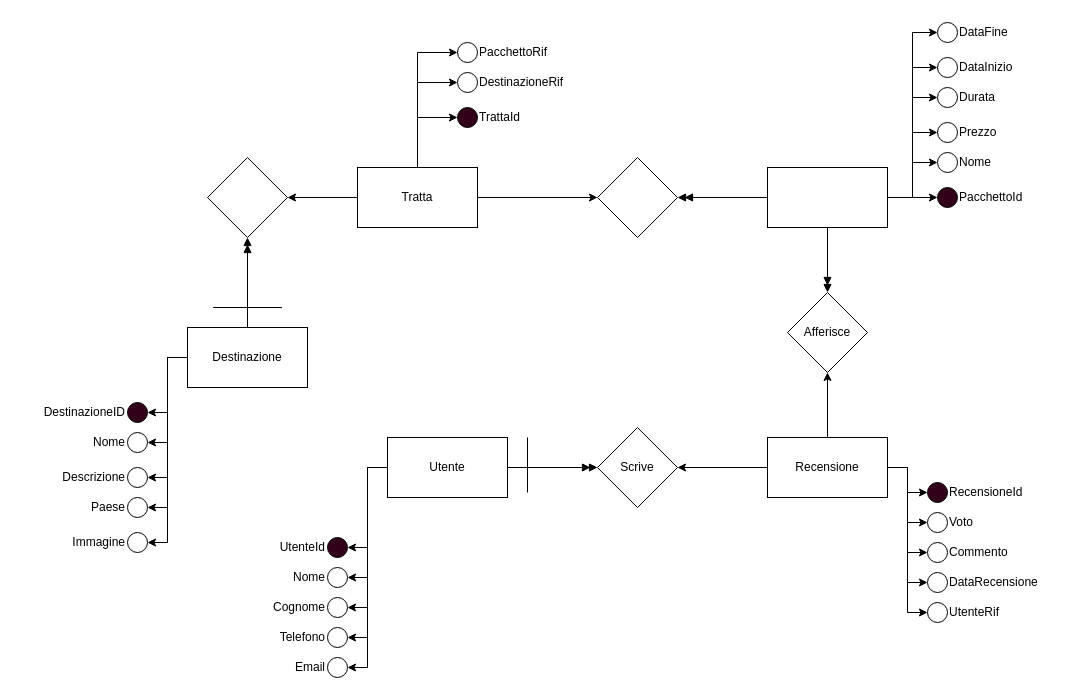
This 1074x699 diagram has some shape labels left out. The shapes that lost their labels are listed below. From the top down, each one's box as (x1, y1, x2, y2) in pixels, then its label:
(206, 156, 288, 238): Partecipa
(596, 156, 678, 238): Possiede
(766, 166, 888, 228): Pacchetto
